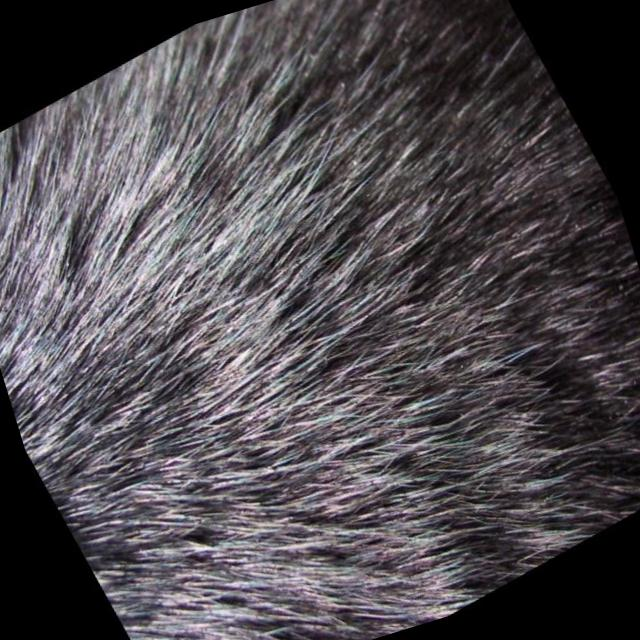Healthy skin: (112, 0, 563, 487), (0, 125, 218, 438), (63, 416, 332, 640), (402, 331, 640, 581), (396, 0, 613, 273)
